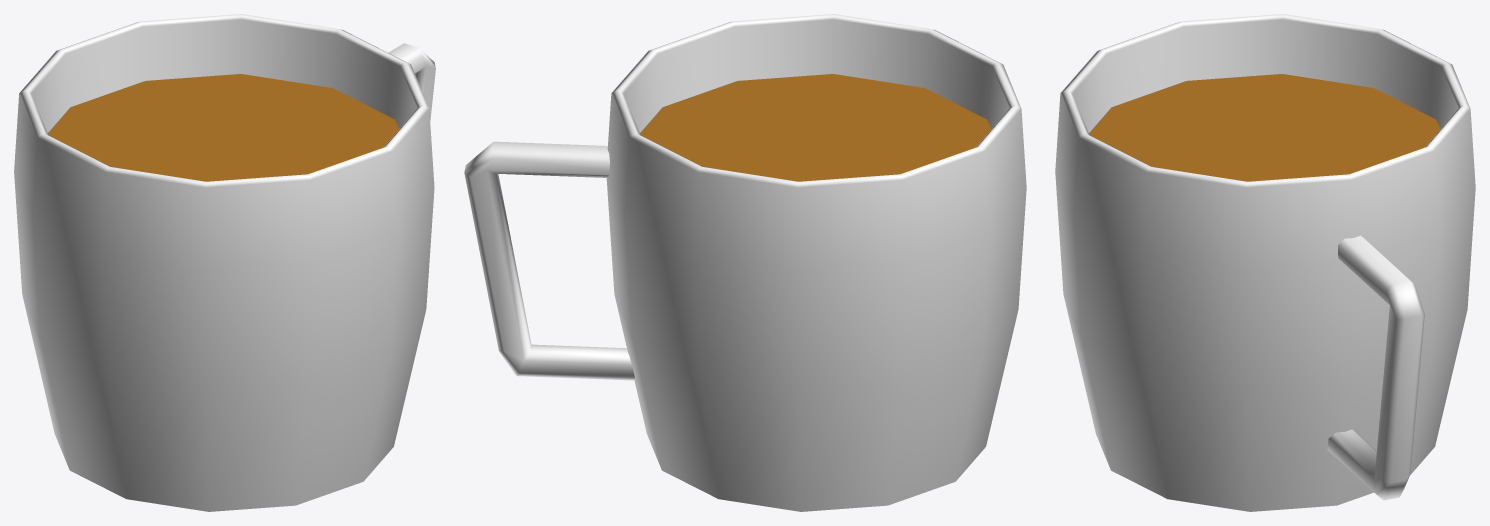
The model's file is cup.glb.
3 views of the same model, side by side, from view 1: azimuth 30°, elevation 25°; view 2: azimuth 150°, elevation 25°; view 3: azimuth 270°, elevation 25° (orthographic).
Parts seen in each view (by area): view 1: Pot_Small2_lambert3_0, Pot_Coffee_Liquid_lambert3_0, Pot_Coffee_Handle_lambert3_0; view 2: Pot_Small2_lambert3_0, Pot_Coffee_Liquid_lambert3_0, Pot_Coffee_Handle_lambert3_0; view 3: Pot_Small2_lambert3_0, Pot_Coffee_Liquid_lambert3_0, Pot_Coffee_Handle_lambert3_0.
Part boxes in pixels (x1=…): Pot_Small2_lambert3_0: x1=14, y1=14, x2=434, y2=511; Pot_Coffee_Liquid_lambert3_0: x1=48, y1=74, x2=398, y2=181; Pot_Coffee_Handle_lambert3_0: x1=388, y1=43, x2=435, y2=120; Pot_Small2_lambert3_0: x1=606, y1=14, x2=1026, y2=511; Pot_Coffee_Liquid_lambert3_0: x1=640, y1=74, x2=990, y2=181; Pot_Coffee_Handle_lambert3_0: x1=464, y1=141, x2=634, y2=380; Pot_Small2_lambert3_0: x1=1055, y1=14, x2=1475, y2=511; Pot_Coffee_Liquid_lambert3_0: x1=1089, y1=74, x2=1439, y2=181; Pot_Coffee_Handle_lambert3_0: x1=1327, y1=235, x2=1424, y2=500.
Size of the model in its own units: 0.1712 by 0.1211 by 0.1348.
1 material, 1 textured.
